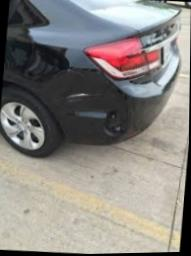Bumper: (37, 87, 148, 146)
